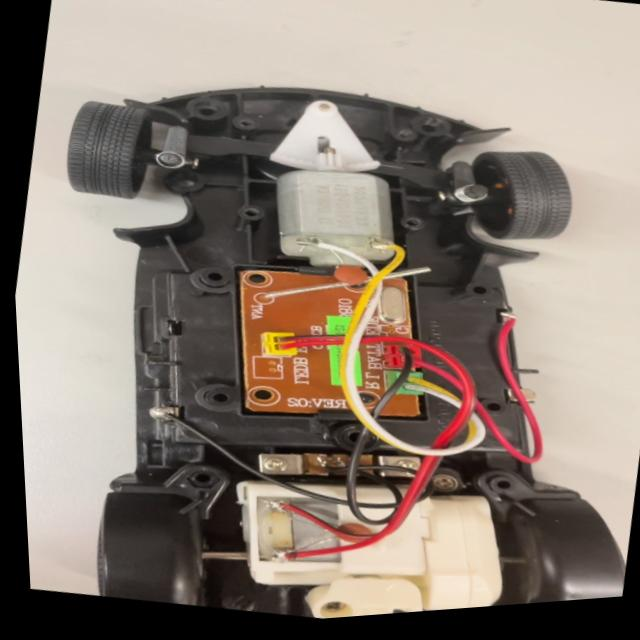motor: (267, 130, 416, 283)
wheel: (441, 124, 595, 264), (51, 84, 191, 219)
